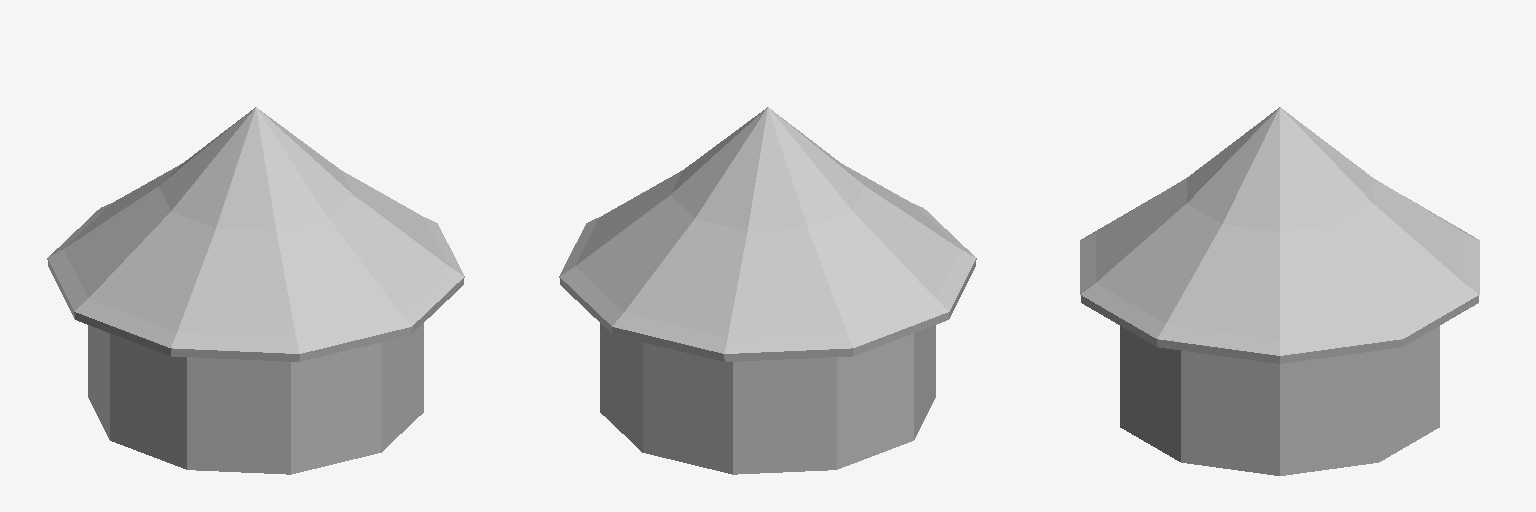
Rendered from Hut02.obj.
3 renders of one model, left to right at view 1: azimuth 30°, elevation 25°; view 2: azimuth 150°, elevation 25°; view 3: azimuth 270°, elevation 25°, orthographic.
Visible parts, largest first — view 1: Hut02; view 2: Hut02; view 3: Hut02.
Part boxes in pixels (left/top/right/bottom): Hut02: left=47, top=107, right=464, bottom=474; Hut02: left=559, top=107, right=976, bottom=474; Hut02: left=1080, top=107, right=1479, bottom=475.
Size of the model in its own units: 9.29 by 7.28 by 8.84.